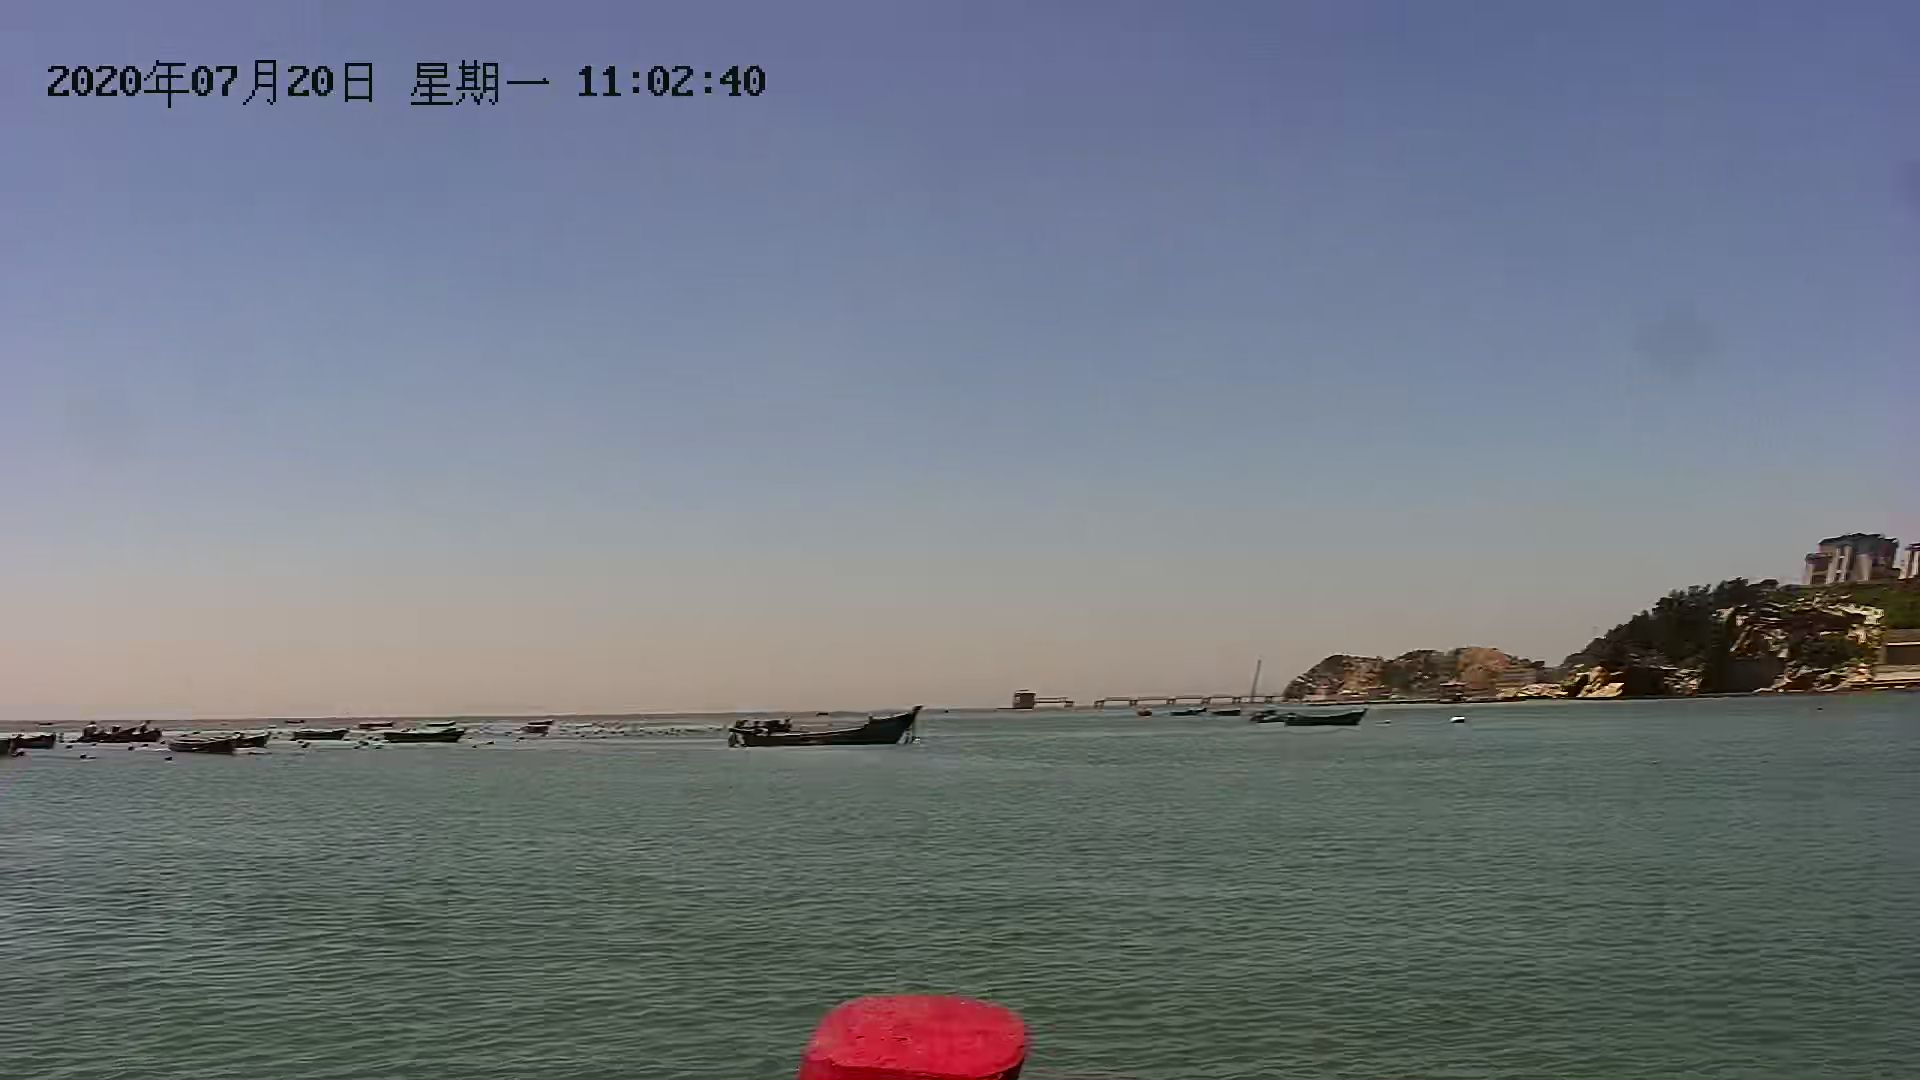boat: (723, 705, 920, 758), (73, 717, 171, 748), (381, 720, 468, 752), (1278, 708, 1375, 735), (164, 723, 240, 754), (284, 721, 357, 750)
harbor: (1005, 679, 1305, 713)
rubbish: (1448, 713, 1482, 735)
